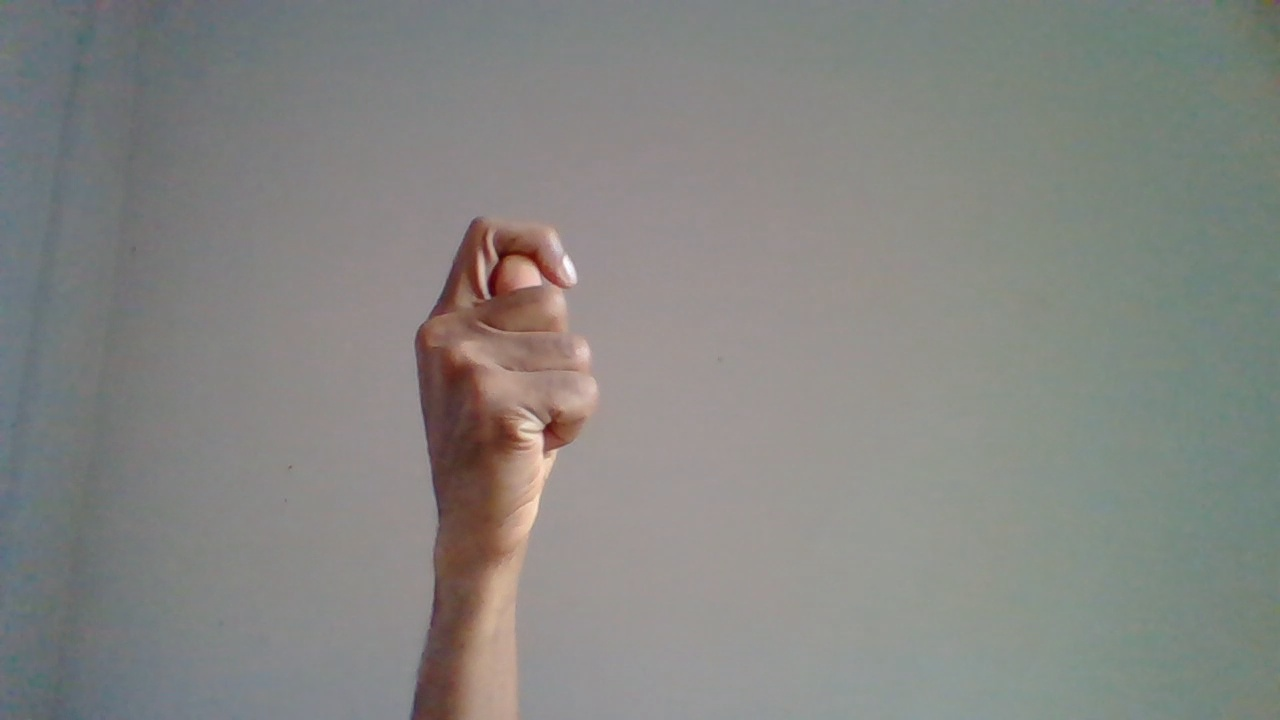che: (406, 216, 597, 659)
